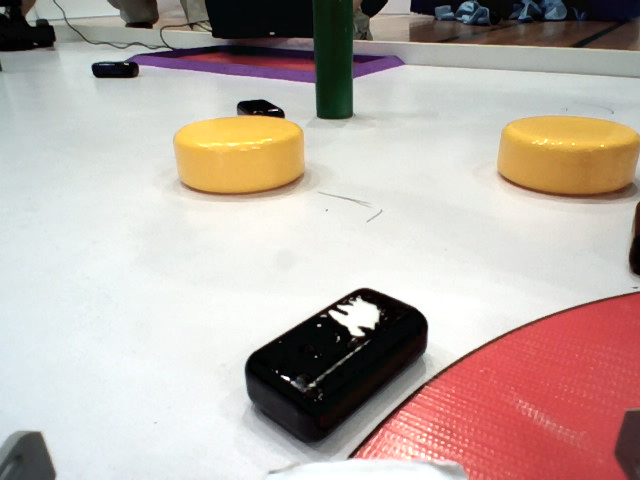black: (236, 285, 436, 448), (220, 87, 296, 130), (90, 55, 140, 82)
kuang: (117, 33, 416, 89)
yellow: (163, 112, 327, 198), (487, 113, 640, 204)
zhuzi: (300, 1, 366, 126)
